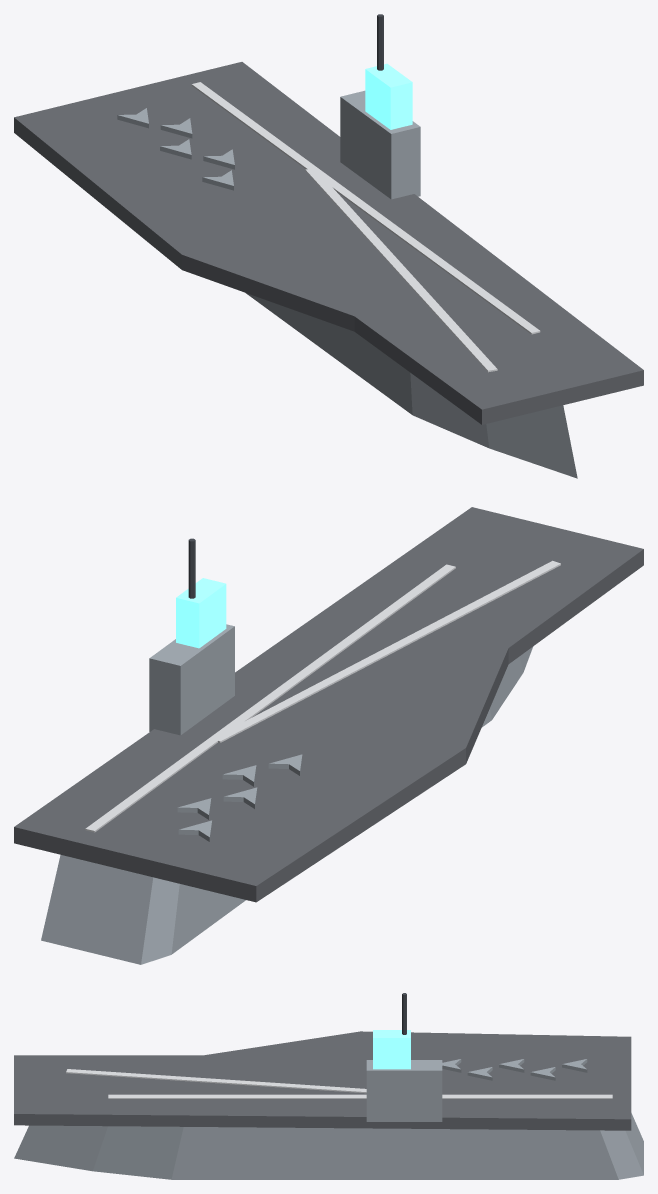
File: carrier.glb
3 renders of one model, top to bottom at view 1: azimuth 30°, elevation 25°; view 2: azimuth 150°, elevation 25°; view 3: azimuth 270°, elevation 25°, orthographic. The views are drawn at different scales.
Visible parts, largest first — view 1: carrier; view 2: carrier; view 3: carrier.
Boxes of the visible parts, x1,y1,x2,y2 form: carrier: (14, 14, 643, 478); carrier: (14, 507, 643, 964); carrier: (14, 993, 643, 1179).
Size of the model in its own units: 0.33 by 0.33 by 1.
